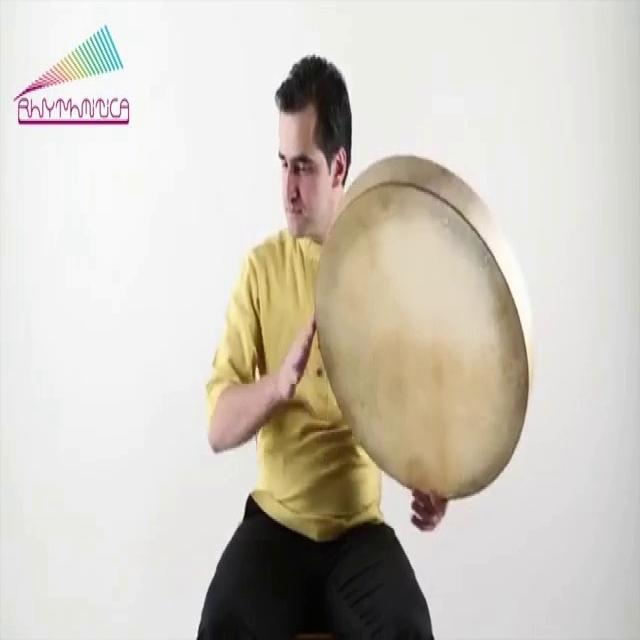Daf: (318, 156, 530, 500)
